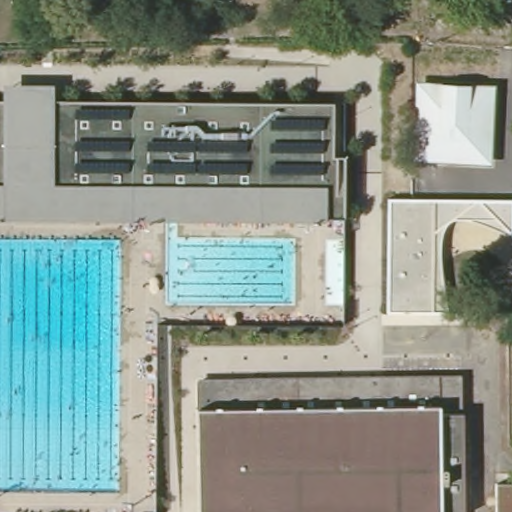pool: (1, 227, 128, 498), (159, 224, 303, 310)
